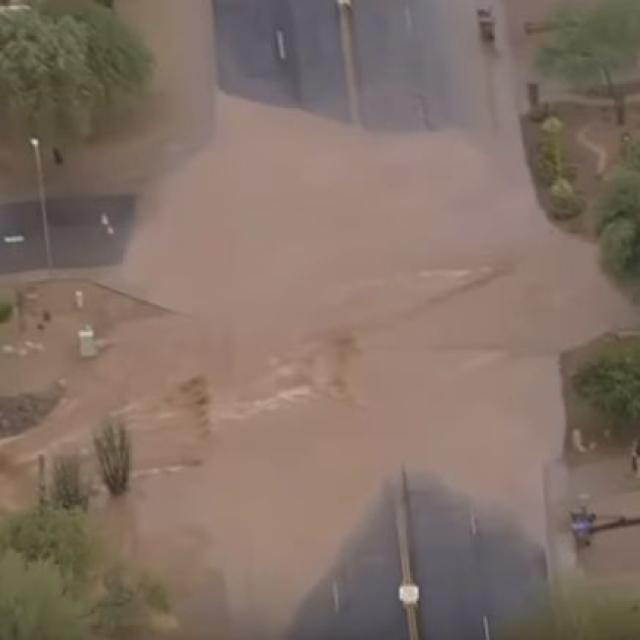flooded_areas: (0, 97, 565, 598)
